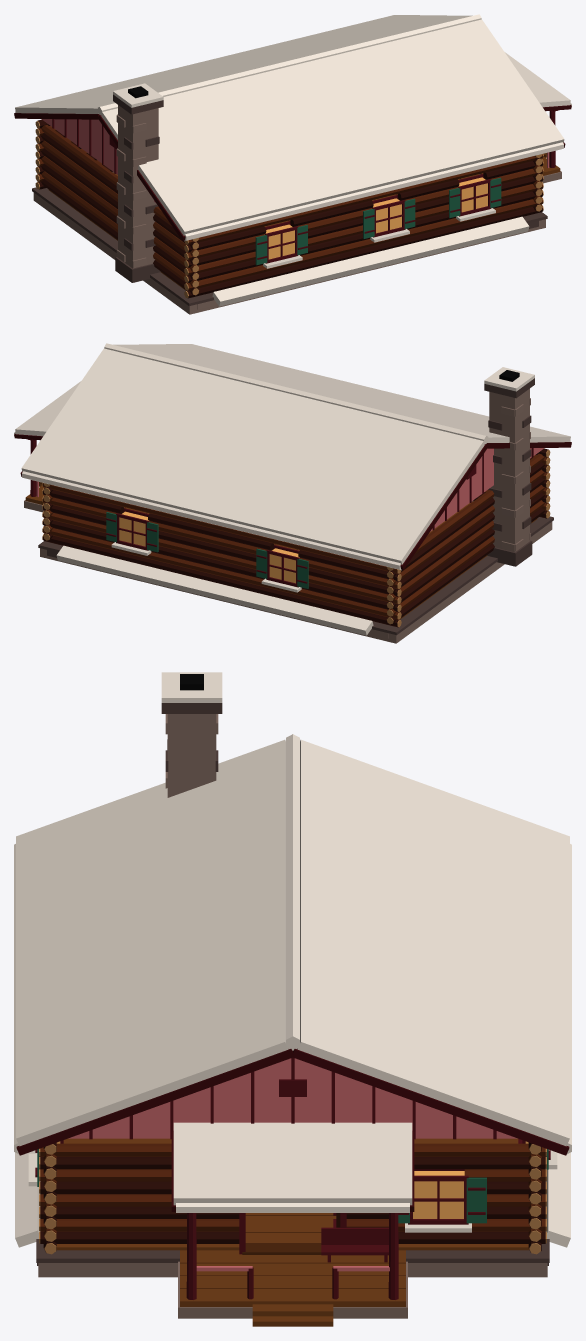
Rendered from rs_lodge.glb.
3 renders of one model, top to bottom at view 1: azimuth 30°, elevation 25°; view 2: azimuth 150°, elevation 25°; view 3: azimuth 270°, elevation 25°, orthographic. The views are drawn at different scales.
Parts seen in each view (by area): view 1: roof, wall_s, base, chimney, wall_w, wall_n, wall_e; view 2: roof, wall_n, base, chimney, wall_w, wall_s, wall_e; view 3: roof, base, wall_e, chimney, wall_s, wall_n.
Boxes of the visible parts, box(x1,y1,x2,y2) form: roof: box(14, 14, 571, 241); wall_s: box(184, 154, 543, 298); base: box(32, 110, 561, 314); chimney: box(113, 83, 163, 282); wall_w: box(40, 125, 198, 295); wall_n: box(35, 119, 112, 189); wall_e: box(532, 154, 542, 211); roof: box(14, 343, 571, 570); wall_n: box(42, 483, 401, 627); base: box(24, 439, 553, 643); chimney: box(484, 367, 534, 566); wall_w: box(387, 453, 544, 624); wall_s: box(473, 448, 550, 518); wall_e: box(43, 483, 52, 540); roof: box(14, 734, 571, 1212); base: box(15, 1138, 570, 1326); wall_e: box(39, 1143, 546, 1254); chimney: box(161, 672, 222, 797); wall_s: box(28, 1140, 63, 1254); wall_n: box(518, 1138, 557, 1254).
Bounding box in the file's own units: 21 × 8.5 × 13.81.
